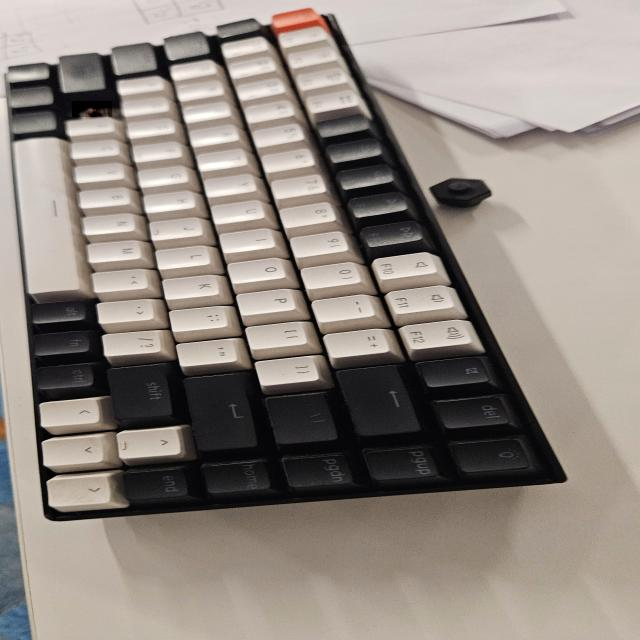C: (72, 101, 112, 117)
